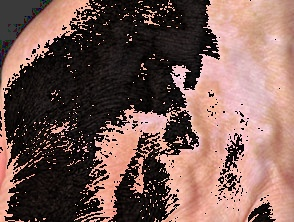vitiligo: (45, 0, 294, 178)
